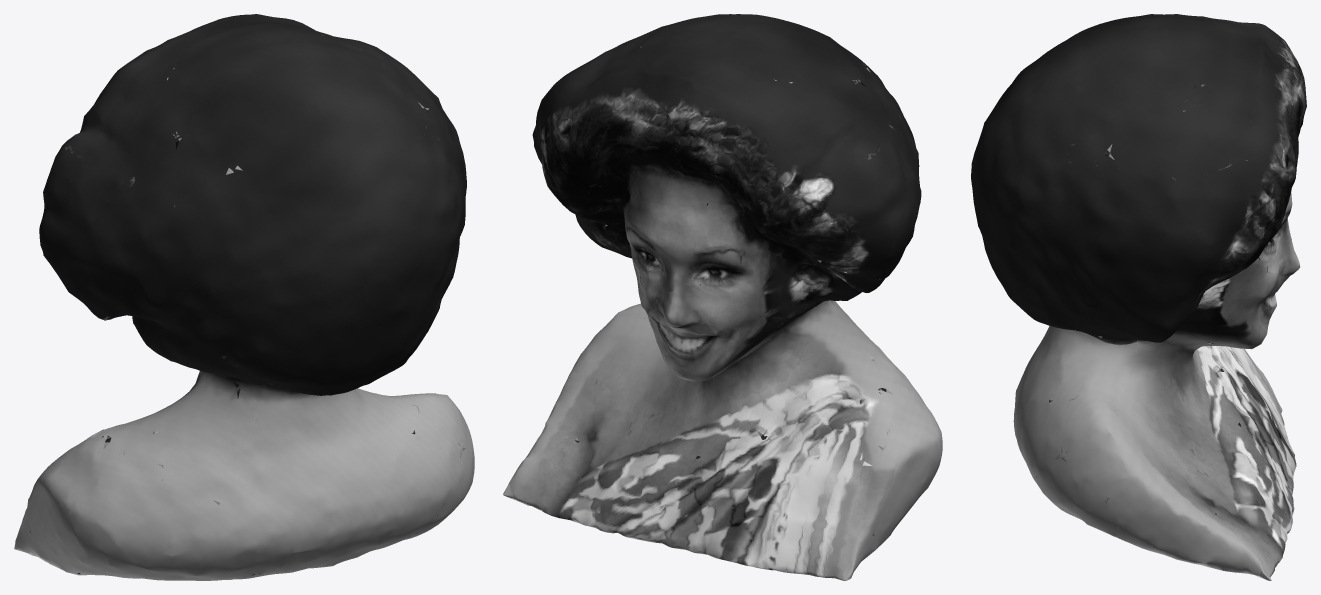
Rendered from diahann_carroll_1976_improved.glb.
3 views of the same model, side by side, from view 1: azimuth 30°, elevation 25°; view 2: azimuth 150°, elevation 25°; view 3: azimuth 270°, elevation 25° (orthographic). The views are drawn at different scales.
Visible parts, largest first — view 1: world; view 2: world; view 3: world.
Boxes of the visible parts, x1,y1,x2,y2 form: world: [14, 14, 474, 580]; world: [503, 14, 942, 580]; world: [971, 14, 1306, 580].
Size of the model in its own units: 0.7295 by 0.8752 by 0.5695.
1 material, 1 textured.
